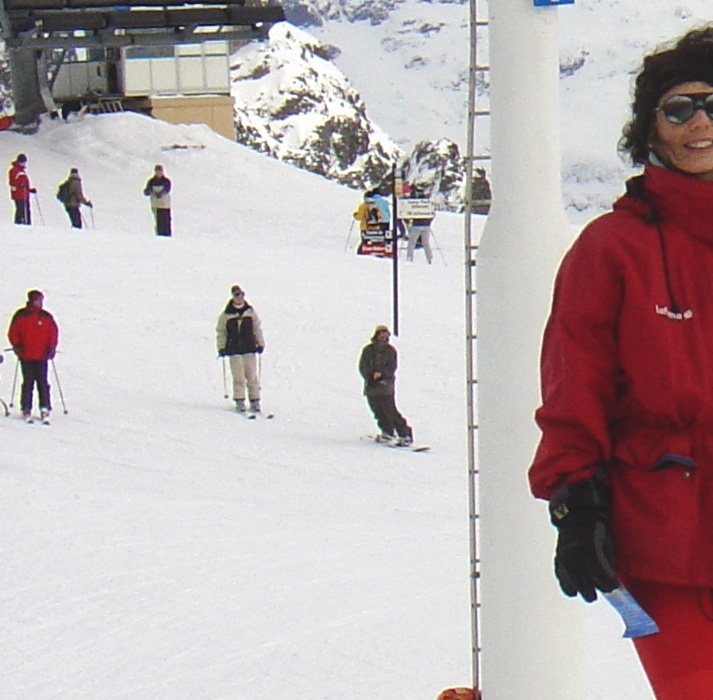person: (355, 322, 416, 443), (212, 286, 265, 413)
